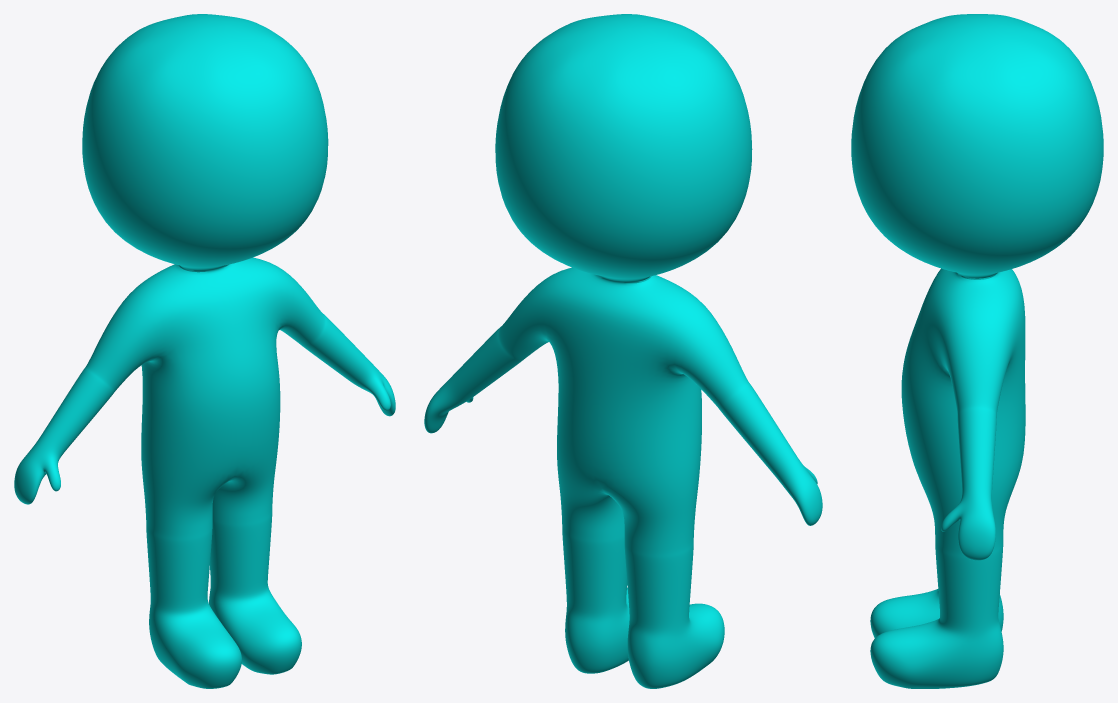
The model's file is No-Rig.fbx.
The picture shows the model from 3 angles, left to right: view 1: azimuth 30°, elevation 25°; view 2: azimuth 150°, elevation 25°; view 3: azimuth 270°, elevation 25°; orthographic projection. The views are drawn at different scales.
Parts seen in each view (by area): view 1: Stickman; view 2: Stickman; view 3: Stickman.
Part boxes in pixels (<box>): Stickman: <box>14,14,395,688</box>; Stickman: <box>424,14,822,688</box>; Stickman: <box>851,14,1103,688</box>.
Size of the model in its own units: 108 by 171 by 61.6.
